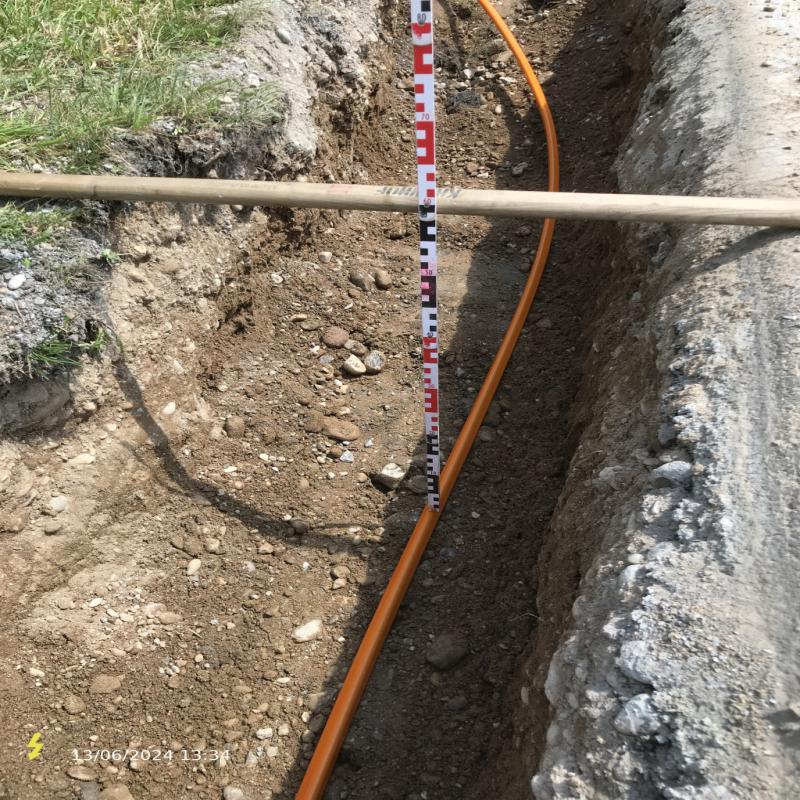Orang-Speednetrohrchen: (296, 58, 559, 799)
